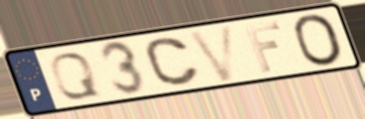3: (100, 38, 149, 99)
C: (142, 36, 203, 88)
F: (242, 20, 284, 75)
O: (290, 12, 348, 68)
Q: (48, 50, 104, 101)
V: (185, 22, 238, 84)
